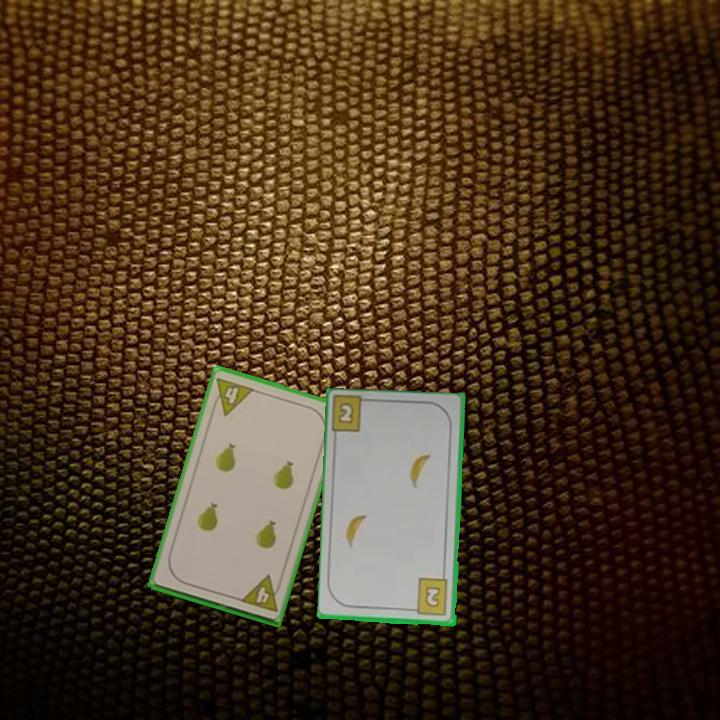2b: (408, 576, 451, 619), (335, 399, 357, 427)
4p: (207, 374, 257, 419), (236, 572, 285, 615)
